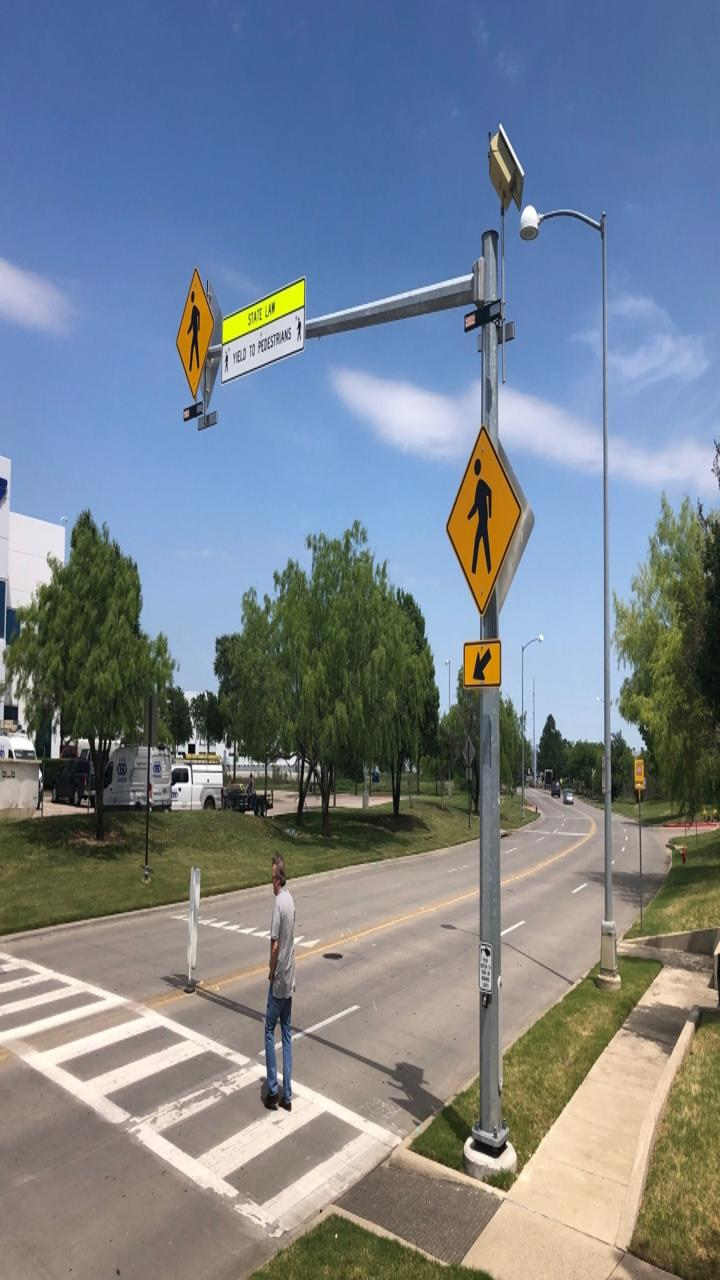Traffic sign: (437, 412, 534, 621), (160, 265, 227, 408), (445, 635, 516, 699)
pedestrian: (243, 851, 316, 1115)
